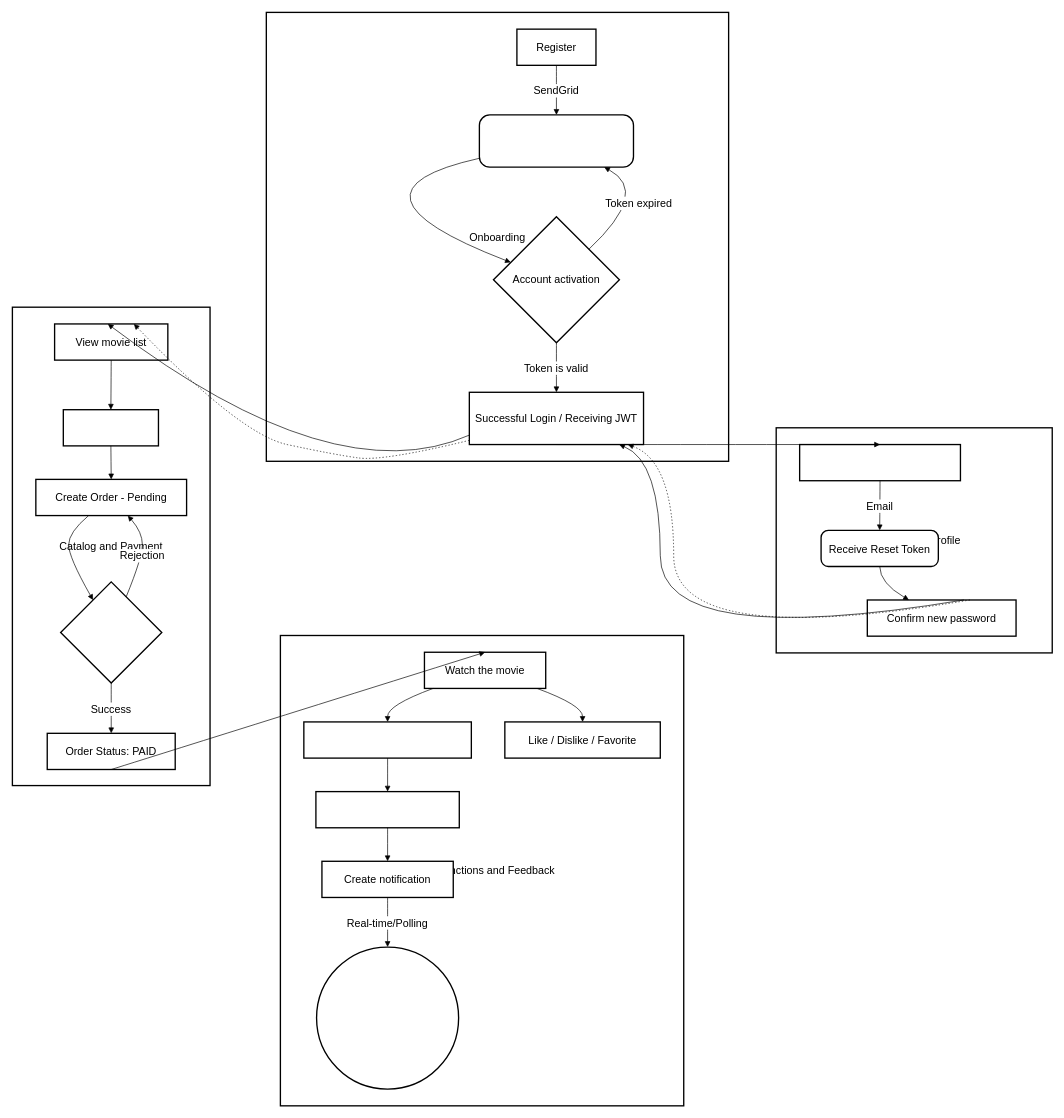
This 1064x1118 diagram has some shape labels left out. Each missing label, with the centre of its shape:
Add to Cart: the point at 110,427
Leave a comment / Rating: the point at 387,739
Password change request: the point at 880,462
Pay via Stripe: the point at 111,632
Receiving an Email with a token: the point at 556,141
Reply to another user: the point at 387,809
User receives a notification: the point at 387,1017
